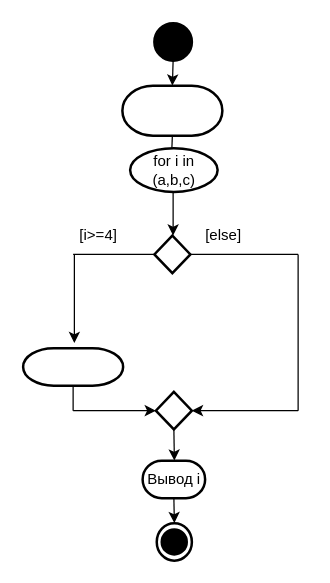
The diagram is 330 pixels wide and 583 high, and some of its shapes have lost their labels. Here are the shapes that lost their labels. From the top down, the box of each, then its label:
(120, 84, 223, 136): Ввод a,b,c
(21, 346, 124, 386): if abs(i) >= 4
